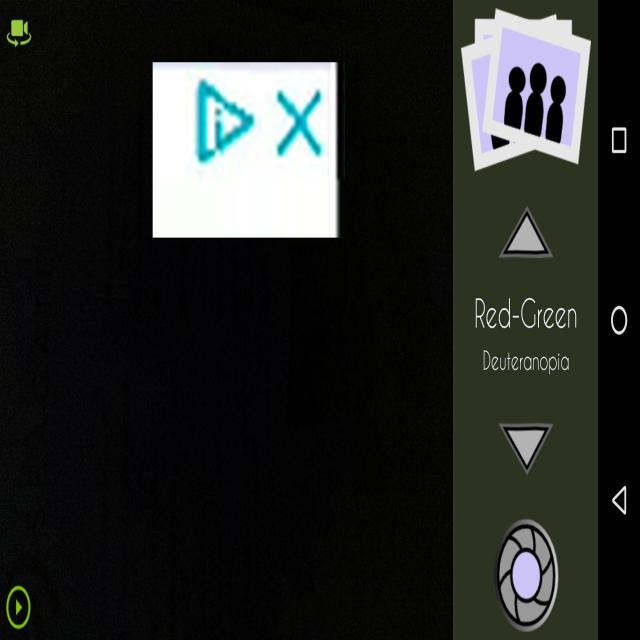sneaking: (153, 62, 345, 238)
